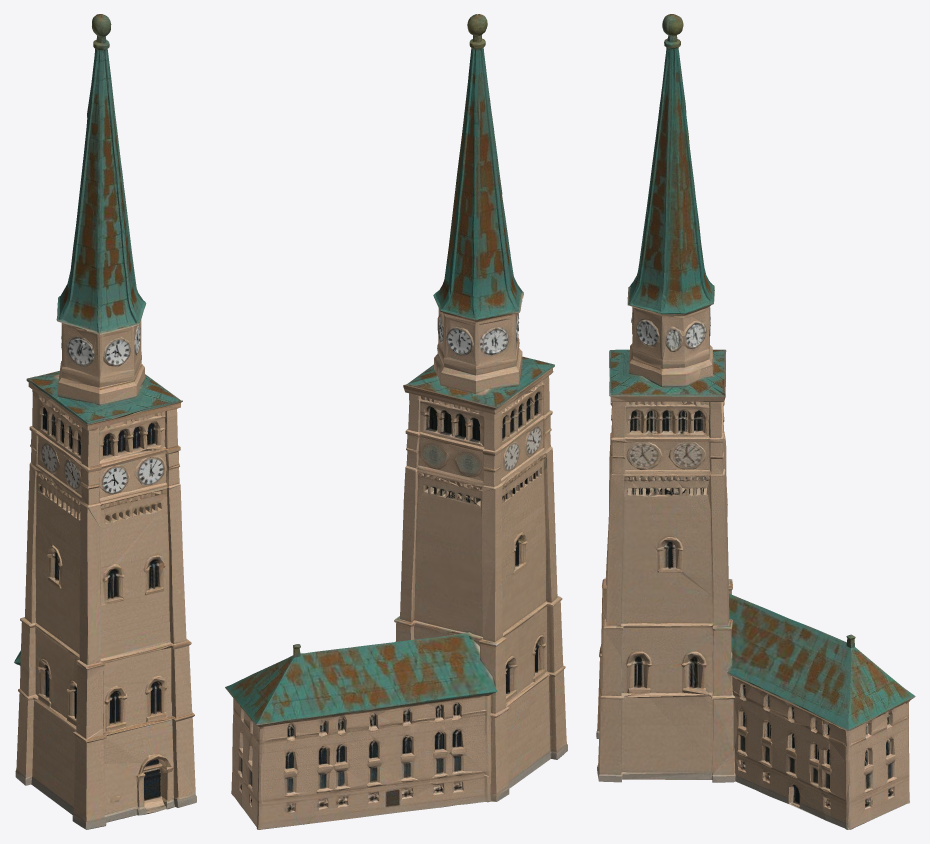
The model's file is clocktower.glb.
The picture shows the model from 3 angles, left to right: view 1: azimuth 30°, elevation 25°; view 2: azimuth 150°, elevation 25°; view 3: azimuth 270°, elevation 25°; orthographic projection. The views are drawn at different scales.
Parts seen in each view (by area): view 1: output_unwrapped; view 2: output_unwrapped; view 3: output_unwrapped.
Boxes of the visible parts, box(x1,y1,x2,y2) form: output_unwrapped: box(14, 14, 196, 829); output_unwrapped: box(225, 14, 567, 829); output_unwrapped: box(596, 14, 915, 829).
Size of the model in its own units: 0.5558 by 1.84 by 0.7178.
Materials: 1 (1 with a texture image).
